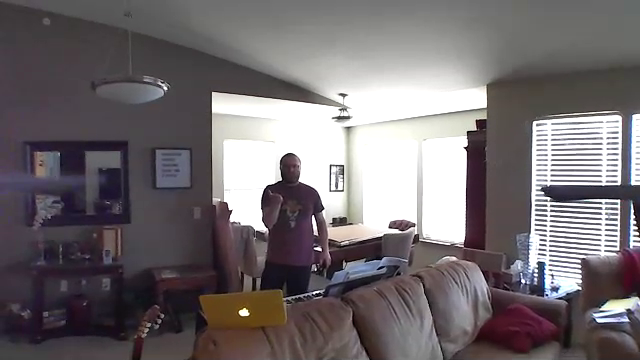land: (260, 184, 288, 206)
